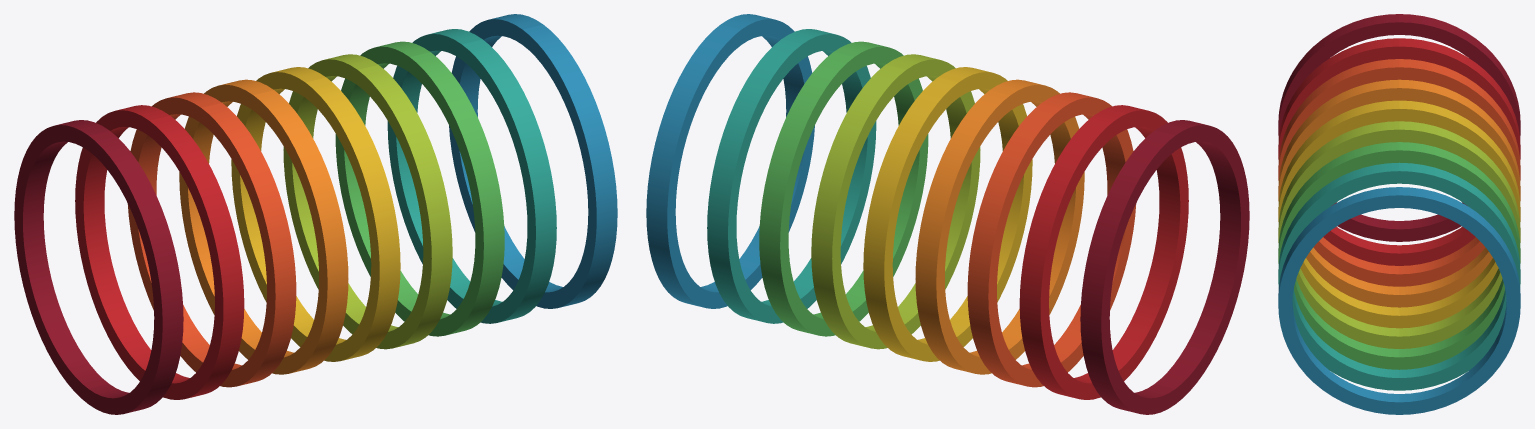
File: labyrinth_seal_pressure.glb
3 renders of one model, left to right at view 1: azimuth 30°, elevation 25°; view 2: azimuth 150°, elevation 25°; view 3: azimuth 270°, elevation 25°, orthographic. The views are drawn at different scales.
Parts seen in each view (by area): view 1: pressure__front, pressure__back; view 2: pressure__back, pressure__front; view 3: pressure__back, pressure__front.
Boxes of the visible parts, x1,y1,x2,y2 form: pressure__front: [88, 24, 617, 414]; pressure__back: [14, 14, 542, 403]; pressure__back: [646, 24, 1175, 414]; pressure__front: [721, 14, 1249, 403]; pressure__back: [1399, 14, 1520, 414]; pressure__front: [1278, 14, 1399, 414].
Bounding box in the file's own units: 0.262 × 0.148 × 0.148.
